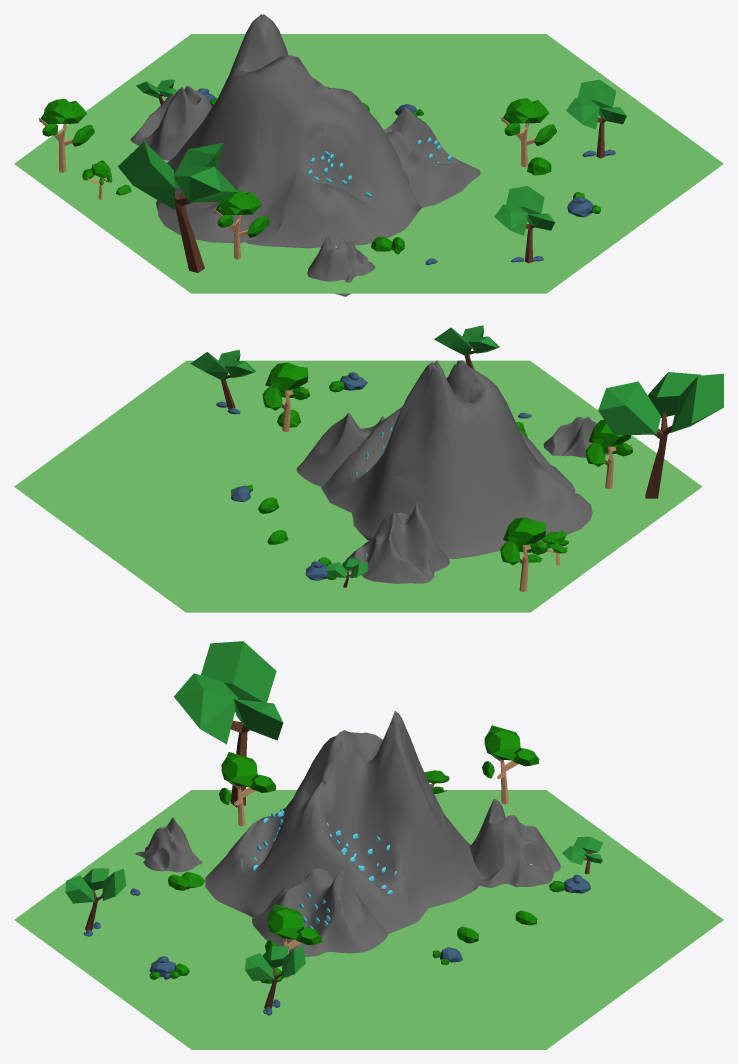
Rendered from Ressource Diamand.fbx.
The picture shows the model from 3 angles, top to bottom: view 1: azimuth 30°, elevation 25°; view 2: azimuth 150°, elevation 25°; view 3: azimuth 270°, elevation 25°; orthographic projection. The views are drawn at different scales.
Visible parts, largest first — view 1: Cylinder, Landscape.008, Cube.047, Landscape.009, Landscape.001, Cube.062, Cube.018, Landscape.002, Icokugel.076, Icokugel.077, Icokugel.005, Icokugel.006 (+2 smaller); view 2: Cylinder, Landscape.008, Cube.047, Landscape.001, Landscape.009, Icokugel.076, Icokugel.077, Icokugel.005, Cube.062, Landscape.002, Cube.018, Cube.061 (+2 smaller); view 3: Cylinder, Landscape.008, Cube.047, Landscape.009, Landscape.001, Landscape.002, Cube.062, Icokugel.076, Cube.018, Icokugel.005, Icokugel.077, Cube.061 (+1 smaller).
Part boxes in pixels (box(x1,y1,x2,y2)): Cylinder: box(14, 34, 723, 293); Landscape.008: box(156, 14, 421, 248); Cube.047: box(118, 141, 238, 272); Landscape.009: box(383, 107, 480, 207); Landscape.001: box(130, 86, 212, 160); Cube.062: box(566, 79, 626, 158); Cube.018: box(494, 186, 555, 263); Landscape.002: box(307, 235, 375, 296); Icokugel.076: box(39, 98, 94, 172); Icokugel.077: box(501, 98, 556, 166); Icokugel.005: box(214, 190, 269, 259); Icokugel.006: box(82, 160, 112, 199); Cylinder: box(14, 360, 702, 612); Landscape.008: box(321, 360, 592, 558); Cube.047: box(598, 372, 723, 498); Landscape.001: box(345, 501, 449, 583); Landscape.009: box(296, 412, 384, 486); Icokugel.076: box(500, 517, 547, 591); Icokugel.077: box(262, 362, 309, 431); Icokugel.005: box(585, 420, 632, 489); Cube.062: box(190, 349, 255, 414); Landscape.002: box(543, 416, 608, 457); Cube.018: box(434, 325, 499, 369); Cube.061: box(326, 558, 367, 587); Cylinder: box(14, 790, 723, 1049); Landscape.008: box(205, 711, 481, 933); Cube.047: box(174, 641, 283, 807); Landscape.009: box(252, 868, 387, 956); Landscape.001: box(470, 798, 560, 887); Landscape.002: box(135, 817, 202, 872); Cube.062: box(245, 946, 305, 1015); Icokugel.076: box(482, 725, 539, 804); Cube.018: box(65, 868, 126, 936); Icokugel.005: box(219, 752, 275, 826); Icokugel.077: box(265, 904, 321, 977); Cube.061: box(562, 836, 602, 874).
Size of the model in its own units: 1863 by 539 by 2000.
